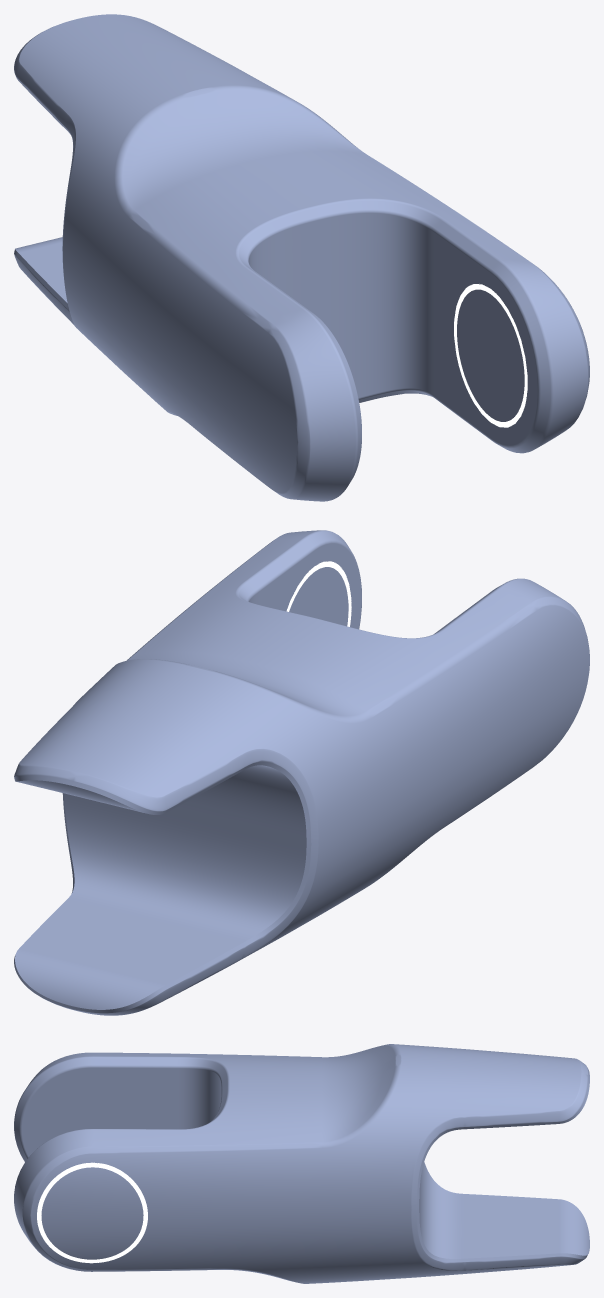
The model's file is 小原子右大腿.glb.
3 views of the same model, one above another, from view 1: azimuth 30°, elevation 25°; view 2: azimuth 150°, elevation 25°; view 3: azimuth 270°, elevation 25° (orthographic). The views are drawn at different scales.
Bounding box in the file's own units: 0.1102 × 0.0995 × 0.2493.
